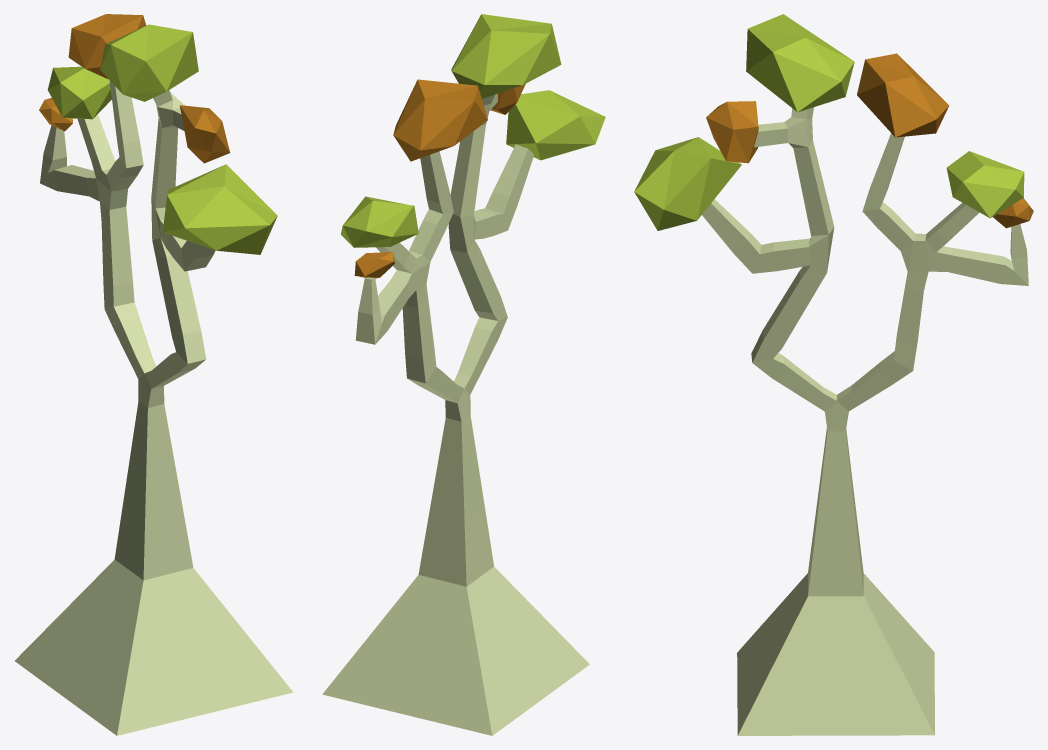
The model's file is treelong.fbx.
3 views of the same model, side by side, from view 1: azimuth 30°, elevation 25°; view 2: azimuth 150°, elevation 25°; view 3: azimuth 270°, elevation 25° (orthographic). The views are drawn at different scales.
Visible parts, largest first — view 1: Cube, Icosphere.001, Icosphere.003, Icosphere.005, Icosphere.004, Icosphere.002, Icosphere.006; view 2: Cube, Icosphere.003, Icosphere.004, Icosphere.001, Icosphere.005, Icosphere.006, Icosphere.002; view 3: Cube, Icosphere.003, Icosphere.001, Icosphere.004, Icosphere.005, Icosphere.002, Icosphere.006.
Boxes of the visible parts, bbox=[...] form: Cube: bbox=[15, 80, 293, 735]; Icosphere.001: bbox=[162, 164, 277, 254]; Icosphere.003: bbox=[100, 24, 198, 101]; Icosphere.005: bbox=[47, 66, 111, 119]; Icosphere.004: bbox=[68, 14, 146, 78]; Icosphere.002: bbox=[179, 105, 230, 163]; Icosphere.006: bbox=[39, 98, 72, 131]; Cube: bbox=[322, 93, 589, 735]; Icosphere.003: bbox=[451, 14, 561, 98]; Icosphere.004: bbox=[393, 79, 487, 161]; Icosphere.001: bbox=[506, 90, 605, 160]; Icosphere.005: bbox=[341, 196, 418, 247]; Icosphere.006: bbox=[354, 252, 394, 278]; Icosphere.002: bbox=[491, 83, 525, 114]; Cube: bbox=[702, 107, 1028, 735]; Icosphere.003: bbox=[746, 14, 854, 112]; Icosphere.001: bbox=[634, 137, 741, 230]; Icosphere.004: bbox=[857, 53, 949, 137]; Icosphere.005: bbox=[946, 151, 1024, 218]; Icosphere.002: bbox=[706, 101, 758, 163]; Icosphere.006: bbox=[993, 198, 1033, 228].
Size of the model in its own units: 223 by 803 by 450.
